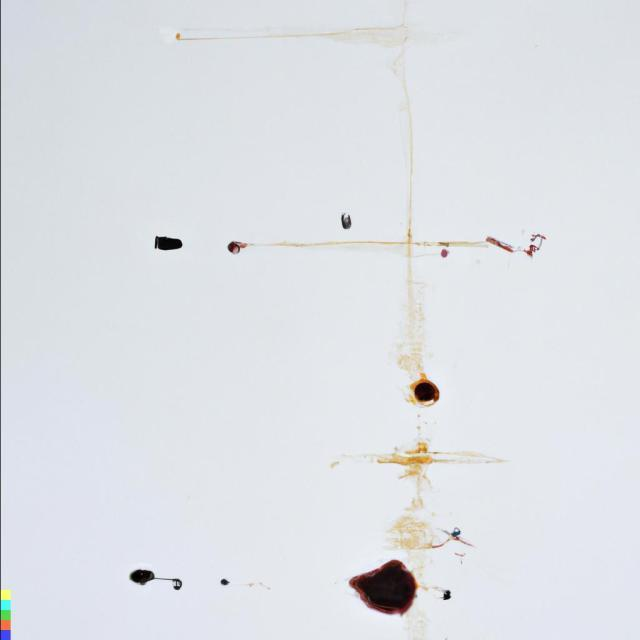flood: (337, 522, 454, 624)
